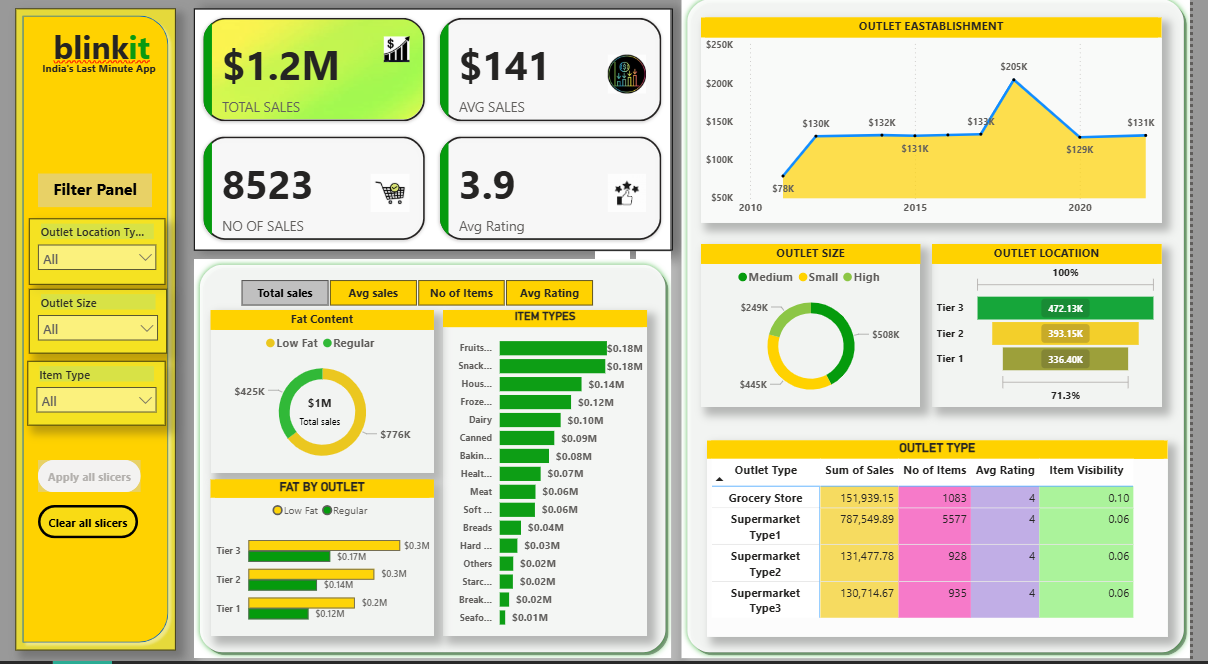

This screenshot's page, from the dashboard's own definition file:
{"tool":"powerbi","page":{"name":"Page 1","canvas":[1400,800],"ordinal":0},"visuals":[{"type":"shape","box":[25.5,25.5,187.6,750.4],"z":0},{"type":"textbox","box":[52.5,81,148.6,48],"z":1000},{"type":"cardVisual","fields":{"Data":["BlinkIT Grocery Data.Total sales","BlinkIT Grocery Data.Avg sales","BlinkIT Grocery Data.No of Items","BlinkIT Grocery Data.Avg Rating"]},"box":[235.6,25.5,558.3,283.7],"z":2000},{"type":"shape","box":[235.6,319.7,558.3,466.8],"z":3000},{"type":"slicer","fields":{"Values":["Metrixs.Metrixs"]},"box":[264.2,336.2,460.8,43.5],"z":4000},{"type":"donutChart","title":"Fat Content","fields":{"Y":["BlinkIT Grocery Data.Total sales"],"Category":["BlinkIT Grocery Data.Item Fat Content"]},"box":[253.6,379.7,261.2,190.6],"z":5000},{"type":"clusteredBarChart","title":"FAT BY OUTLET","fields":{"Y":["BlinkIT Grocery Data.Total sales"],"Category":["BlinkIT Grocery Data.Outlet Location Type"],"Series":["BlinkIT Grocery Data.Item Fat Content"]},"box":[253.6,577.8,261.2,183.1],"z":6000},{"type":"textbox","box":[40.5,40.5,160.6,51],"z":7000},{"type":"cardVisual","fields":{"Data":["BlinkIT Grocery Data.Total sales"]},"box":[327.2,453.3,112.6,79.5],"z":8000},{"type":"clusteredBarChart","title":"ITEM TYPES","fields":{"Y":["BlinkIT Grocery Data.Total sales"],"Category":["BlinkIT Grocery Data.Item Type"]},"box":[526.8,379.7,238.6,381.2],"z":9000},{"type":"shape","box":[806,9,594.3,777.4],"z":10000},{"type":"lineChart","title":"OUTLET EASTABLISHMENT","fields":{"Y":["BlinkIT Grocery Data.Total sales"],"Category":["BlinkIT Grocery Data.Outlet Establishment Year"]},"box":[828.5,37.5,538.8,240.1],"z":11000},{"type":"donutChart","title":"OUTLET SIZE","fields":{"Y":["BlinkIT Grocery Data.Total sales"],"Category":["BlinkIT Grocery Data.Outlet Size"]},"box":[828.5,301.7,256.6,190.6],"z":12000},{"type":"funnel","title":"OUTLET LOCATIION","fields":{"Y":["Sum(BlinkIT Grocery Data.Sales)"],"Category":["BlinkIT Grocery Data.Outlet Location Type"]},"box":[1098.6,301.7,268.7,190.6],"z":13000},{"type":"pivotTable","title":"OUTLET TYPE","fields":{"Values":["Sum(BlinkIT Grocery Data.Sales)","BlinkIT Grocery Data.No of Items","BlinkIT Grocery Data.Avg Rating","Avg(BlinkIT Grocery Data.Item Visibility)"],"Rows":["BlinkIT Grocery Data.Outlet Type"]},"box":[834.5,531.3,538.8,229.6],"z":14000},{"type":"slicer","fields":{"Values":["BlinkIT Grocery Data.Outlet Location Type"]},"box":[40.5,277.7,159.1,58.5],"z":15000},{"type":"slicer","fields":{"Values":["BlinkIT Grocery Data.Outlet Size"]},"box":[39,349.7,160.6,58.5],"z":16000},{"type":"slicer","fields":{"Values":["BlinkIT Grocery Data.Item Type"]},"box":[39,417.2,160.6,58.5],"z":17000},{"type":"textbox","box":[52.5,219.1,133.6,39],"z":18000},{"type":"actionButton","box":[52.5,553.8,120.1,37.5],"z":19000},{"type":"actionButton","box":[52.5,607.8,117.1,39],"z":20000}]}

Visuals, with their boxes in screenshot pixels (x1, y1, x2, y2):
shape: Rect(15, 9, 174, 646)
textbox: Rect(38, 56, 164, 97)
cardVisual - BlinkIT Grocery Data.Total sales x BlinkIT Grocery Data.Avg sales: Rect(194, 9, 667, 250)
shape: Rect(194, 259, 667, 655)
slicer - Metrixs.Metrixs: Rect(218, 273, 609, 310)
"Fat Content" donutChart: Rect(209, 310, 430, 471)
"FAT BY OUTLET" clusteredBarChart: Rect(209, 478, 430, 633)
textbox: Rect(28, 22, 164, 65)
cardVisual - BlinkIT Grocery Data.Total sales: Rect(271, 372, 367, 439)
"ITEM TYPES" clusteredBarChart: Rect(441, 310, 643, 633)
shape: Rect(677, 0, 1182, 655)
"OUTLET EASTABLISHMENT" lineChart: Rect(697, 19, 1154, 223)
"OUTLET SIZE" donutChart: Rect(697, 243, 914, 405)
"OUTLET LOCATIION" funnel: Rect(926, 243, 1154, 405)
"OUTLET TYPE" pivotTable: Rect(702, 438, 1159, 633)
slicer - BlinkIT Grocery Data.Outlet Location Type: Rect(28, 223, 163, 273)
slicer - BlinkIT Grocery Data.Outlet Size: Rect(27, 284, 163, 334)
slicer - BlinkIT Grocery Data.Item Type: Rect(27, 341, 163, 391)
textbox: Rect(38, 173, 152, 206)
actionButton: Rect(38, 457, 140, 489)
actionButton: Rect(38, 503, 138, 536)
